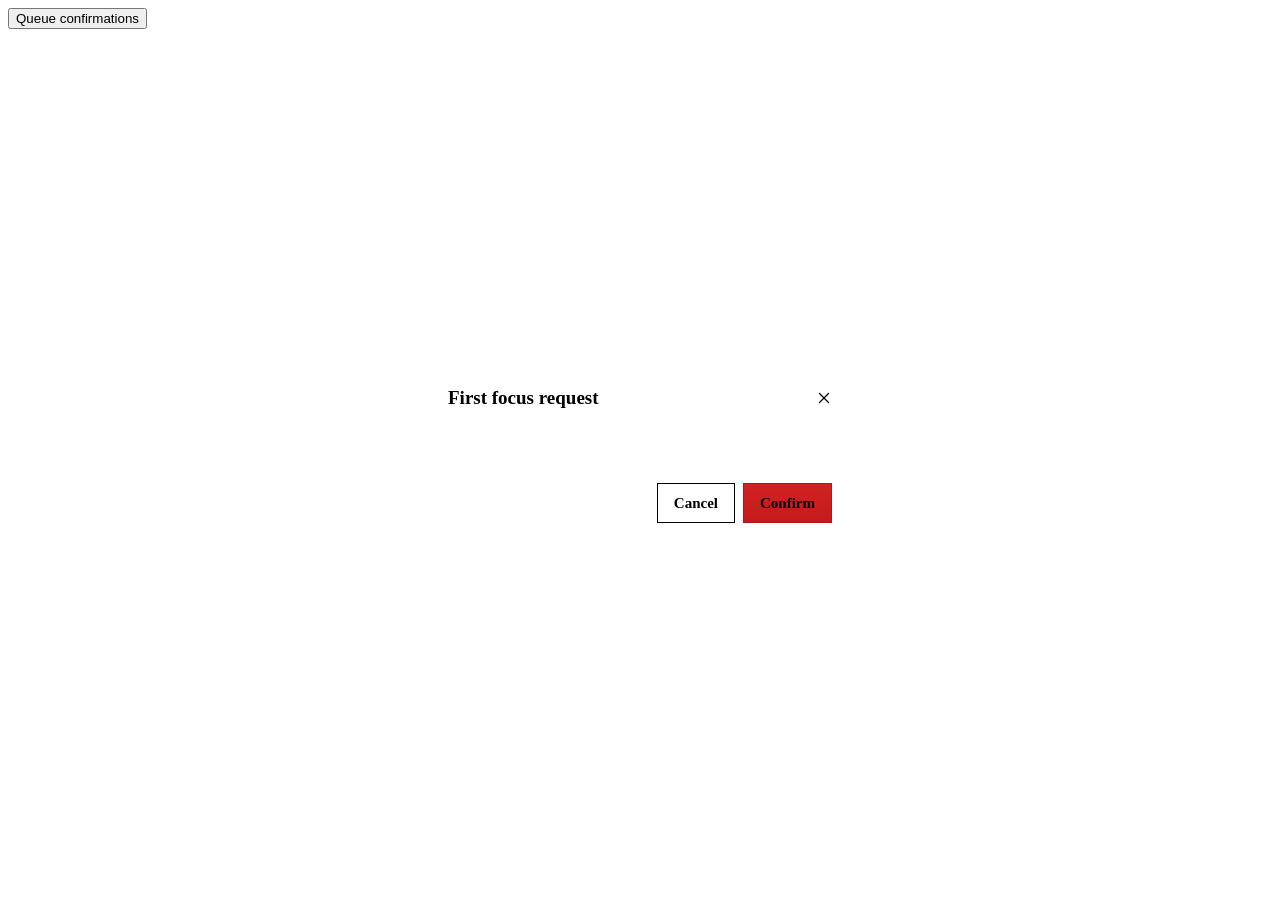
ConfirmHost chains › returns final focus to the page origin after a queued chain
This screenshot has width=1280, height=900.
Later steps or results of the test are not shown.
Click the button "Confirm".
click(788, 503)  # box top-left (743, 483), bottom-right (832, 523)
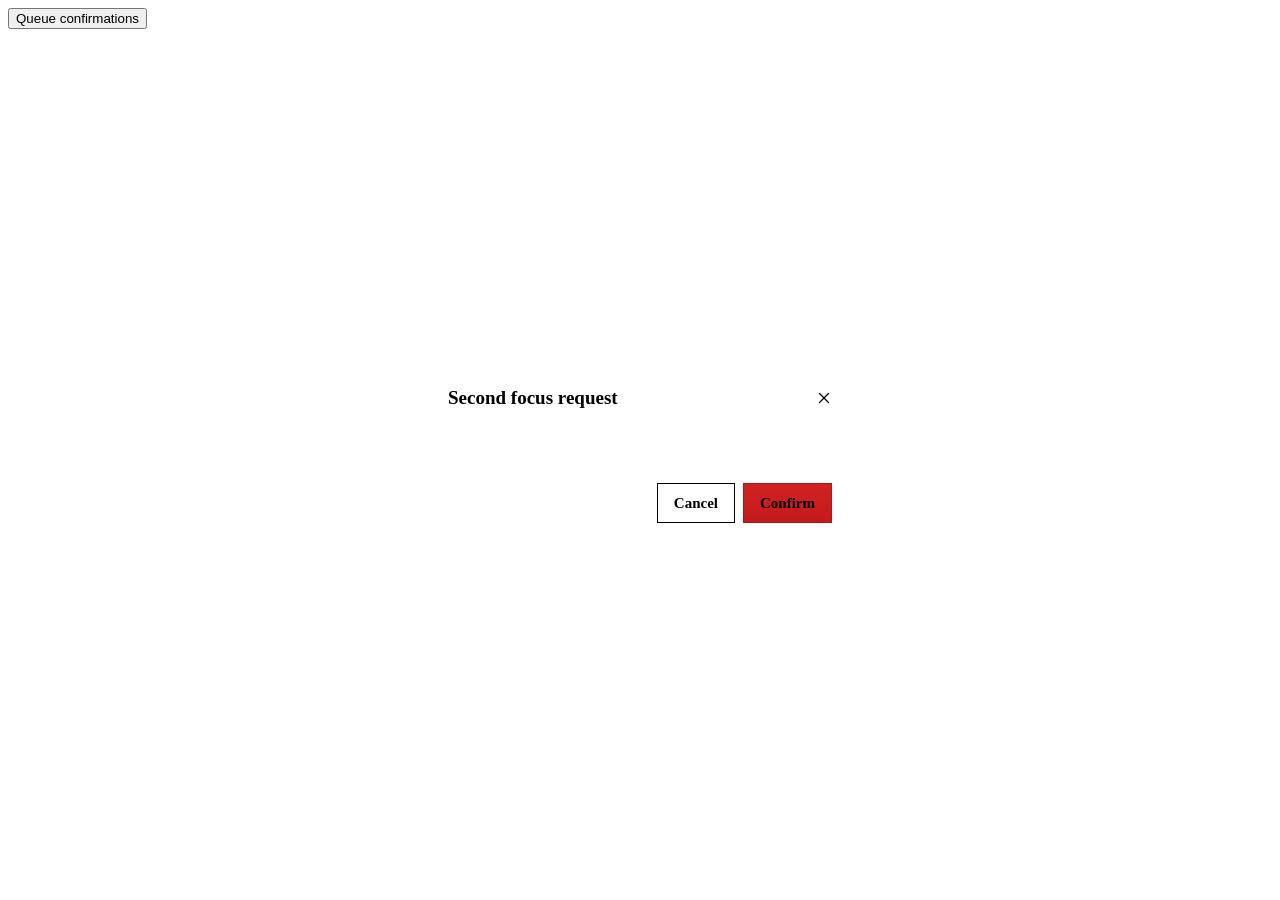
Check: the dialog "Second focus request" is shown, box top-left (430, 363), bottom-right (850, 537)
